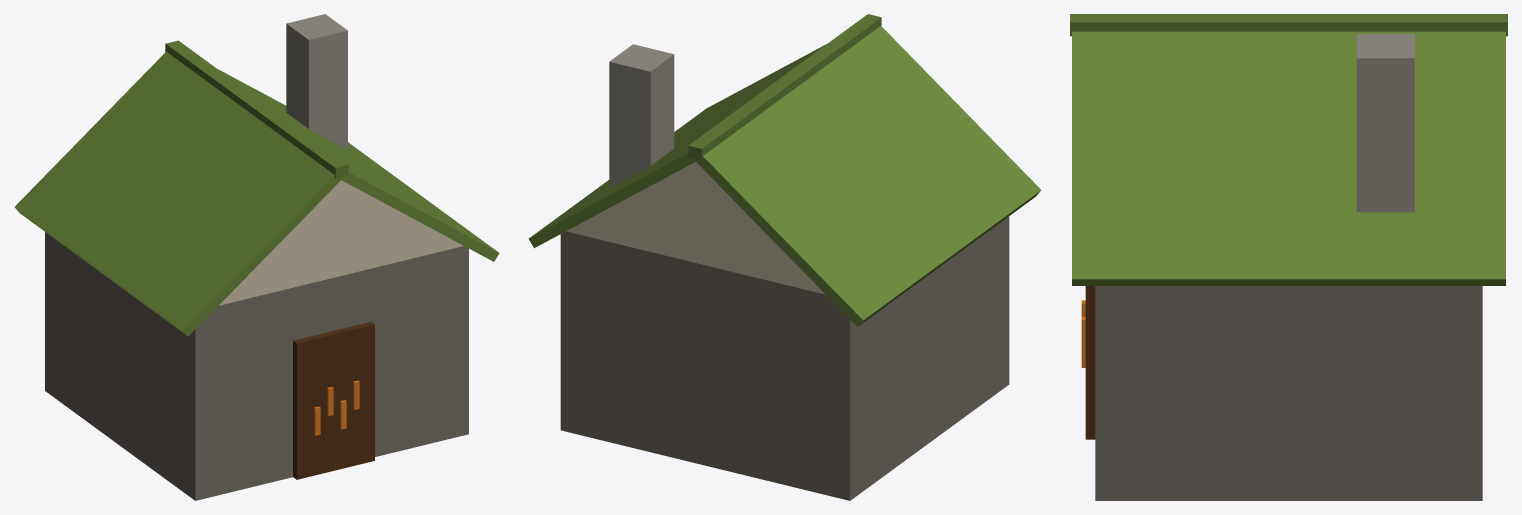
The model's file is dwarf_house_b_broken.glb.
The picture shows the model from 3 angles, left to right: view 1: azimuth 30°, elevation 25°; view 2: azimuth 150°, elevation 25°; view 3: azimuth 270°, elevation 25°; orthographic projection. The views are drawn at different scales.
Parts seen in each view (by area): view 1: dwarf_house_b_piece0, dwarf_house_b_piece7, dwarf_house_b_piece8, dwarf_house_b_piece1, dwarf_house_b_piece2, dwarf_house_b_piece11, dwarf_house_b_piece3, dwarf_house_b_piece5, dwarf_house_b_piece10, dwarf_house_b_piece9; view 2: dwarf_house_b_piece4, dwarf_house_b_piece7, dwarf_house_b_piece2, dwarf_house_b_piece8, dwarf_house_b_piece0, dwarf_house_b_piece1, dwarf_house_b_piece3, dwarf_house_b_piece10, dwarf_house_b_piece6, dwarf_house_b_piece5, dwarf_house_b_piece9, dwarf_house_b_piece11; view 3: dwarf_house_b_piece3, dwarf_house_b_piece6, dwarf_house_b_piece0, dwarf_house_b_piece11, dwarf_house_b_piece4, dwarf_house_b_piece10, dwarf_house_b_piece1, dwarf_house_b_piece7, dwarf_house_b_piece5.
Part boxes in pixels (<box>): dwarf_house_b_piece0: <box>217,111,499,426</box>; dwarf_house_b_piece7: <box>42,40,214,299</box>; dwarf_house_b_piece8: <box>92,236,226,500</box>; dwarf_house_b_piece1: <box>208,81,404,493</box>; dwarf_house_b_piece2: <box>15,153,137,458</box>; dwarf_house_b_piece11: <box>273,111,479,449</box>; dwarf_house_b_piece3: <box>286,14,464,227</box>; dwarf_house_b_piece5: <box>202,65,234,146</box>; dwarf_house_b_piece10: <box>201,43,306,127</box>; dwarf_house_b_piece9: <box>91,296,154,470</box>; dwarf_house_b_piece4: <box>560,186,813,473</box>; dwarf_house_b_piece7: <box>667,120,959,330</box>; dwarf_house_b_piece2: <box>739,252,948,500</box>; dwarf_house_b_piece8: <box>900,144,1041,415</box>; dwarf_house_b_piece0: <box>688,14,1002,150</box>; dwarf_house_b_piece1: <box>697,71,968,147</box>; dwarf_house_b_piece3: <box>572,44,708,206</box>; dwarf_house_b_piece10: <box>590,91,729,209</box>; dwarf_house_b_piece6: <box>528,185,639,287</box>; dwarf_house_b_piece5: <box>726,102,825,135</box>; dwarf_house_b_piece9: <box>898,328,966,428</box>; dwarf_house_b_piece11: <box>674,70,792,133</box>; dwarf_house_b_piece3: <box>1097,34,1431,500</box>; dwarf_house_b_piece6: <box>1169,124,1505,500</box>; dwarf_house_b_piece0: <box>1070,14,1258,378</box>; dwarf_house_b_piece11: <box>1085,21,1271,500</box>; dwarf_house_b_piece4: <box>1285,328,1482,500</box>; dwarf_house_b_piece10: <box>1331,17,1505,232</box>; dwarf_house_b_piece1: <box>1081,14,1363,439</box>; dwarf_house_b_piece7: <box>1414,14,1507,64</box>; dwarf_house_b_piece5: <box>1352,14,1425,33</box>.
Bounding box in the file's own units: 2.43 × 2.45 × 2.26.
